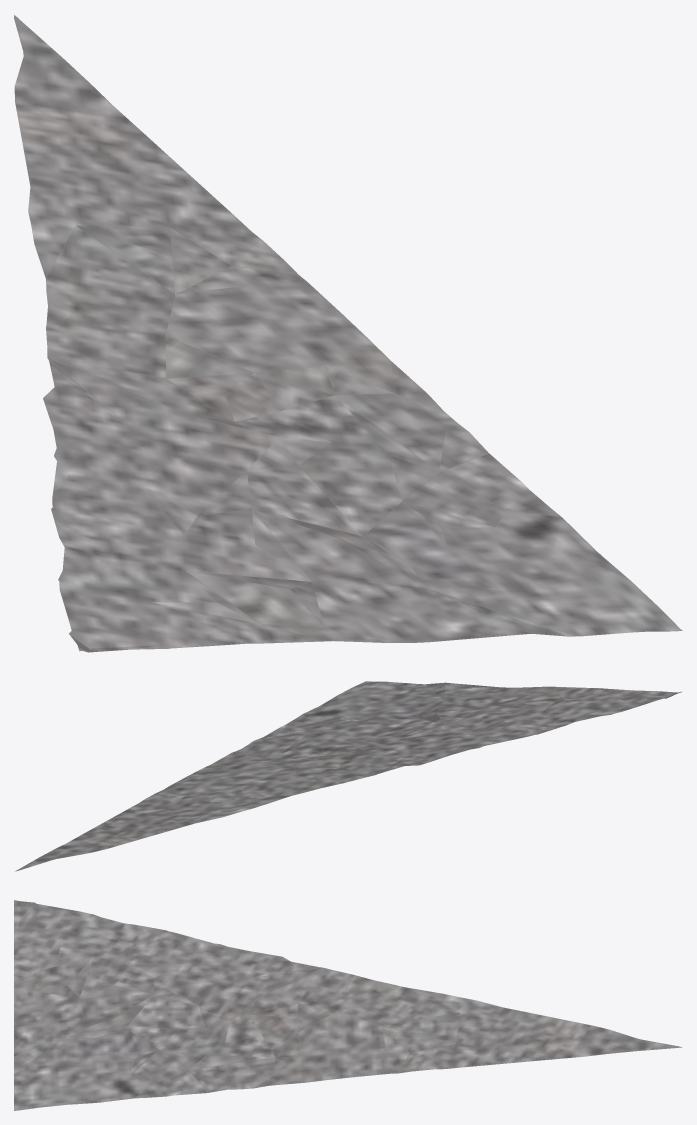
The picture shows the model from 3 angles, top to bottom: view 1: azimuth 30°, elevation 25°; view 2: azimuth 150°, elevation 25°; view 3: azimuth 270°, elevation 25°; orthographic projection. The views are drawn at different scales.
Size of the model in its own units: 0.5315 by 0.1068 by 1.02.
Materials: 1 (1 with a texture image).
